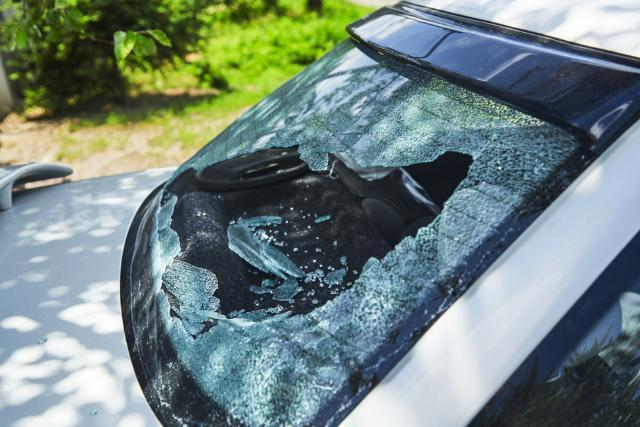Windshield: (170, 59, 503, 396)
